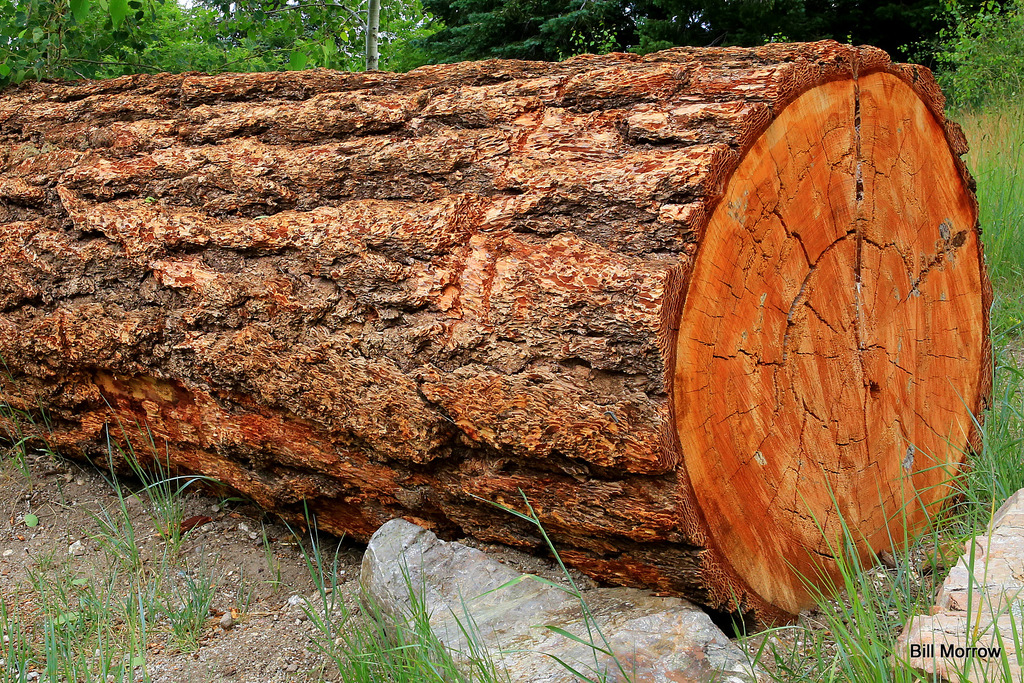Tree: (408, 0, 1009, 72), (0, 0, 431, 87)
